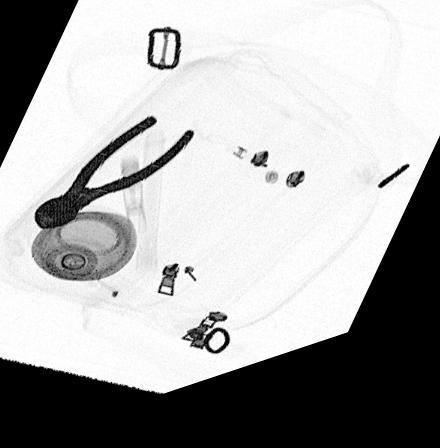Pliers: (25, 124, 202, 235)
